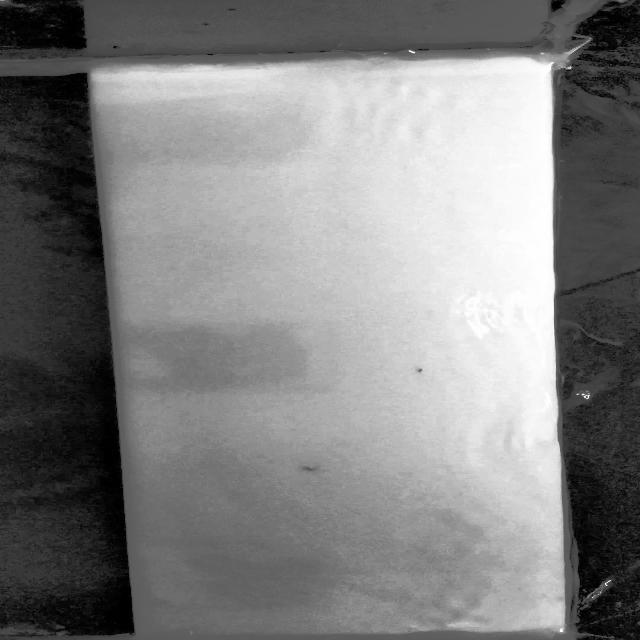shrimp: (407, 361, 441, 377), (301, 464, 328, 475)
